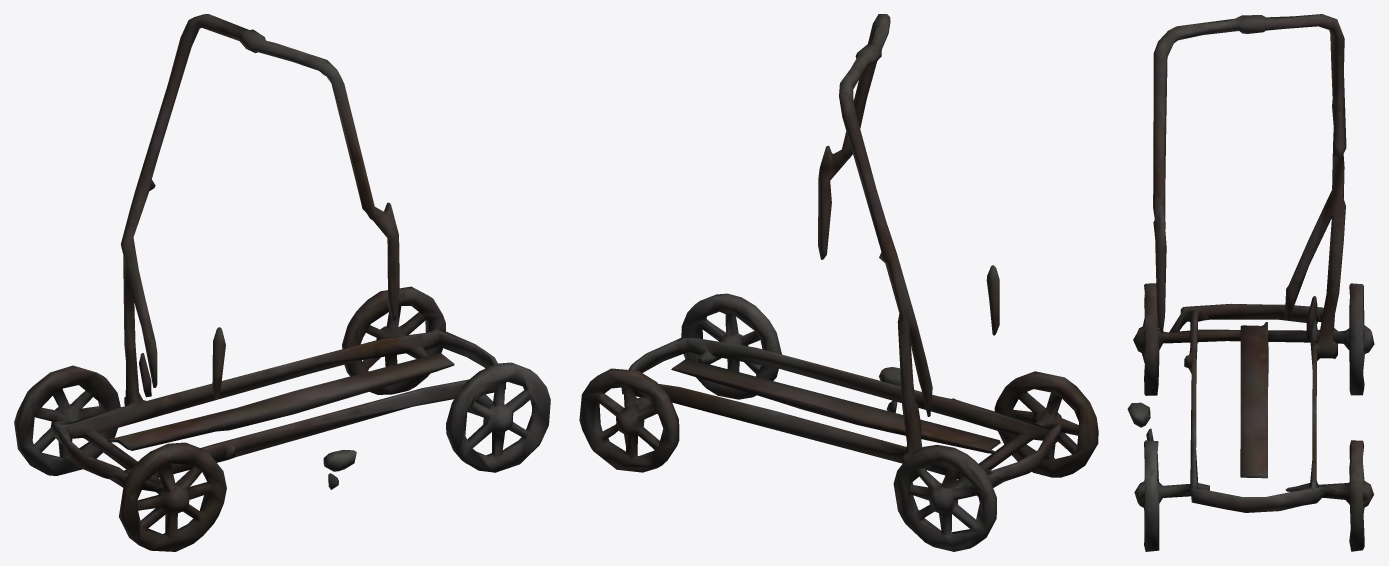
Rendered from worn-iron-gurney-v002.glb.
The picture shows the model from 3 angles, left to right: view 1: azimuth 30°, elevation 25°; view 2: azimuth 150°, elevation 25°; view 3: azimuth 270°, elevation 25°; orthographic projection. The views are drawn at different scales.
Visible parts, largest first — view 1: worn-iron-gurney; view 2: worn-iron-gurney; view 3: worn-iron-gurney.
Part boxes in pixels (x1=…): worn-iron-gurney: x1=14, y1=14, x2=550, y2=551; worn-iron-gurney: x1=579, y1=14, x2=1098, y2=551; worn-iron-gurney: x1=1127, y1=14, x2=1374, y2=551.
Size of the model in its own units: 0.8113 by 0.8142 by 0.4162.
Materials: 1 (1 with a texture image).
